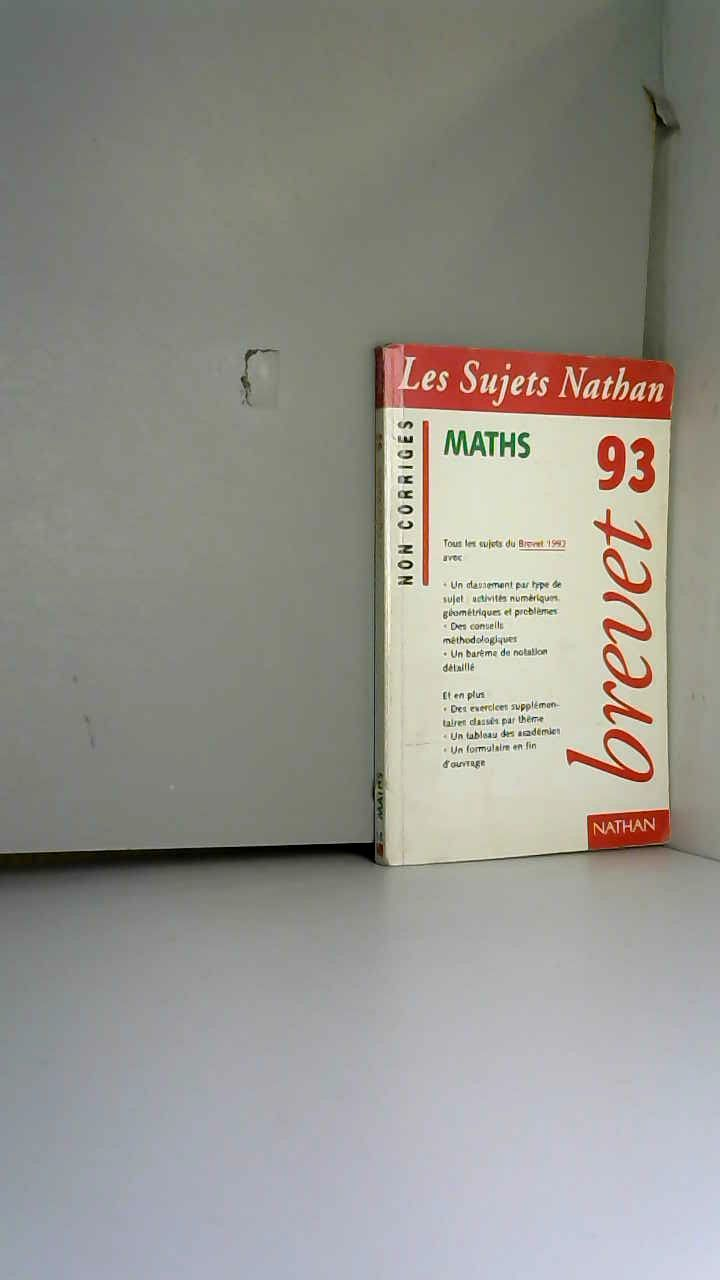book: (337, 318, 707, 897)
